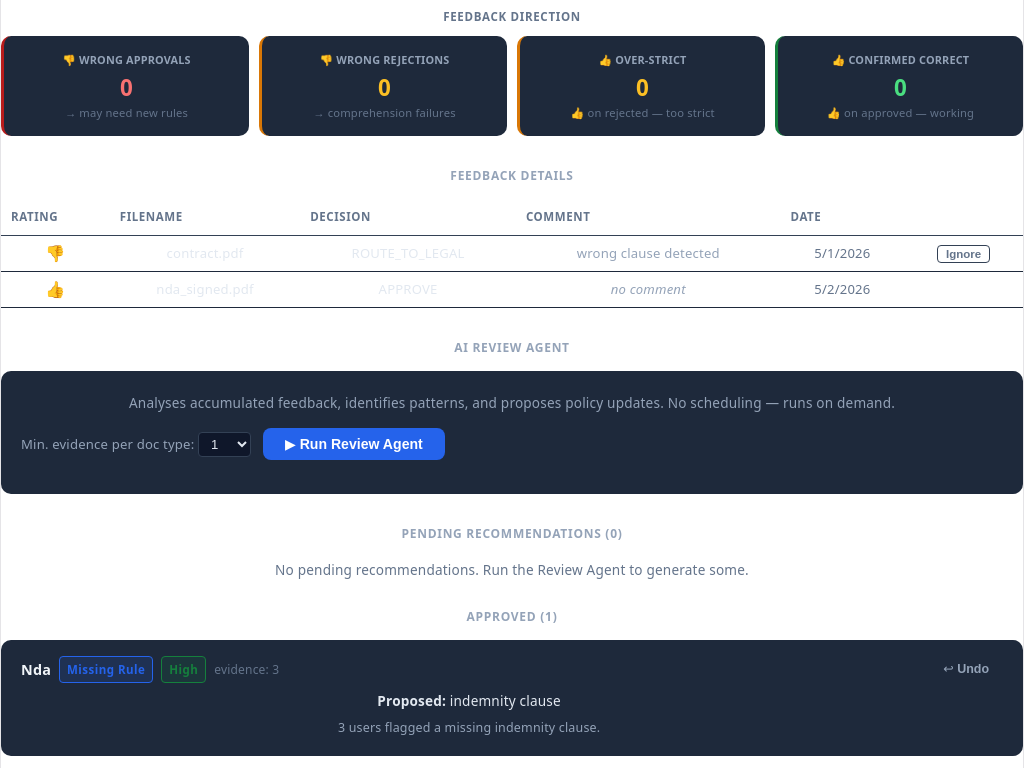
Test: InsightsDashboard — undo button › shows undo success message after undo
(page scrolled)
Step 1. Click the button "↩ Undo" → [966, 668], box 929,656 -> 1003,681
(page scrolled)
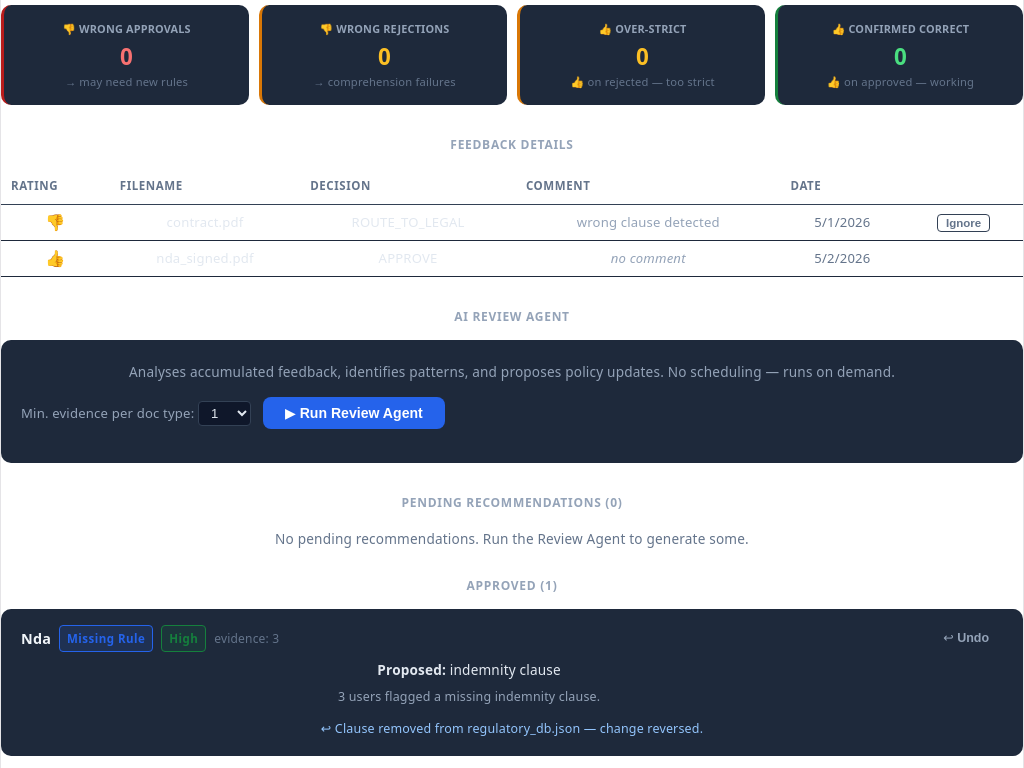
Check: the text "↩ Clause removed from regulatory_db.json — change reversed." is shown, box 321,720 -> 703,736
